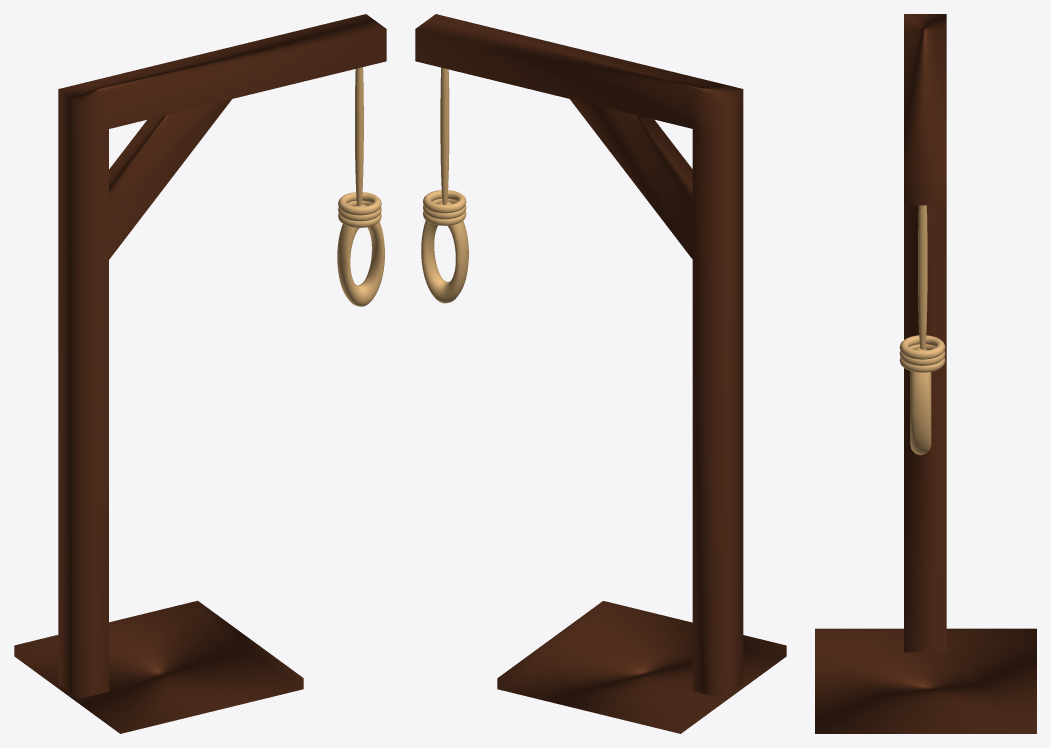
File: Hangman's Noose.fbx
3 renders of one model, left to right at view 1: azimuth 30°, elevation 25°; view 2: azimuth 150°, elevation 25°; view 3: azimuth 270°, elevation 25°, orthographic. The views are drawn at different scales.
Visible parts, largest first — view 1: Hangman's Noose; view 2: Hangman's Noose; view 3: Hangman's Noose.
Part boxes in pixels (x1,y1,x2,y2): Hangman's Noose: (14, 14, 386, 733); Hangman's Noose: (415, 14, 786, 733); Hangman's Noose: (815, 14, 1036, 733).
Size of the model in its own units: 319 by 583 by 187.
